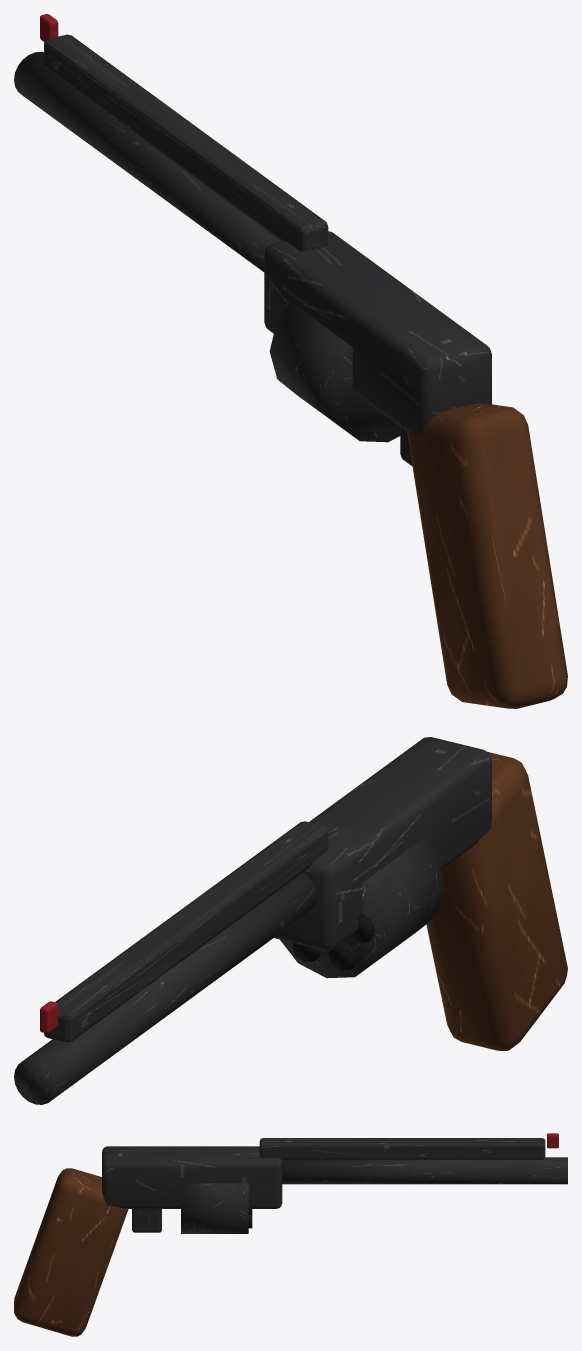
The model's file is weapon-revolver.glb.
3 views of the same model, one above another, from view 1: azimuth 30°, elevation 25°; view 2: azimuth 150°, elevation 25°; view 3: azimuth 270°, elevation 25° (orthographic). The views are drawn at different scales.
Parts seen in each view (by area): view 1: Cube.002, Cube, Cube.001, Cylinder, Cylinder.001; view 2: Cube.002, Cube, Cube.001, Cylinder, Cylinder.001, Cylinder.006, Cube.004; view 3: Cube.002, Cube, Cylinder, Cube.001, Cylinder.001, Cube.003.
Boxes of the visible parts, bbox=[...] form: Cube.002: bbox=[407, 403, 567, 708]; Cube: bbox=[264, 231, 491, 435]; Cube.001: bbox=[44, 34, 328, 251]; Cylinder: bbox=[14, 51, 281, 271]; Cylinder.001: bbox=[269, 302, 400, 442]; Cube.002: bbox=[426, 752, 567, 1050]; Cube: bbox=[274, 737, 491, 950]; Cube.001: bbox=[44, 821, 328, 1042]; Cylinder: bbox=[14, 872, 316, 1104]; Cylinder.001: bbox=[280, 838, 445, 978]; Cylinder.006: bbox=[328, 941, 357, 971]; Cube.004: bbox=[40, 1001, 58, 1033]; Cube.002: bbox=[14, 1168, 128, 1336]; Cube: bbox=[102, 1146, 282, 1208]; Cylinder: bbox=[282, 1157, 567, 1184]; Cube.001: bbox=[259, 1138, 545, 1159]; Cylinder.001: bbox=[181, 1183, 248, 1233]; Cube.003: bbox=[132, 1209, 161, 1232].
Bounding box in the file's own units: 0.048 × 0.1448 × 0.3685.
Materials: 4 (3 with a texture image).
